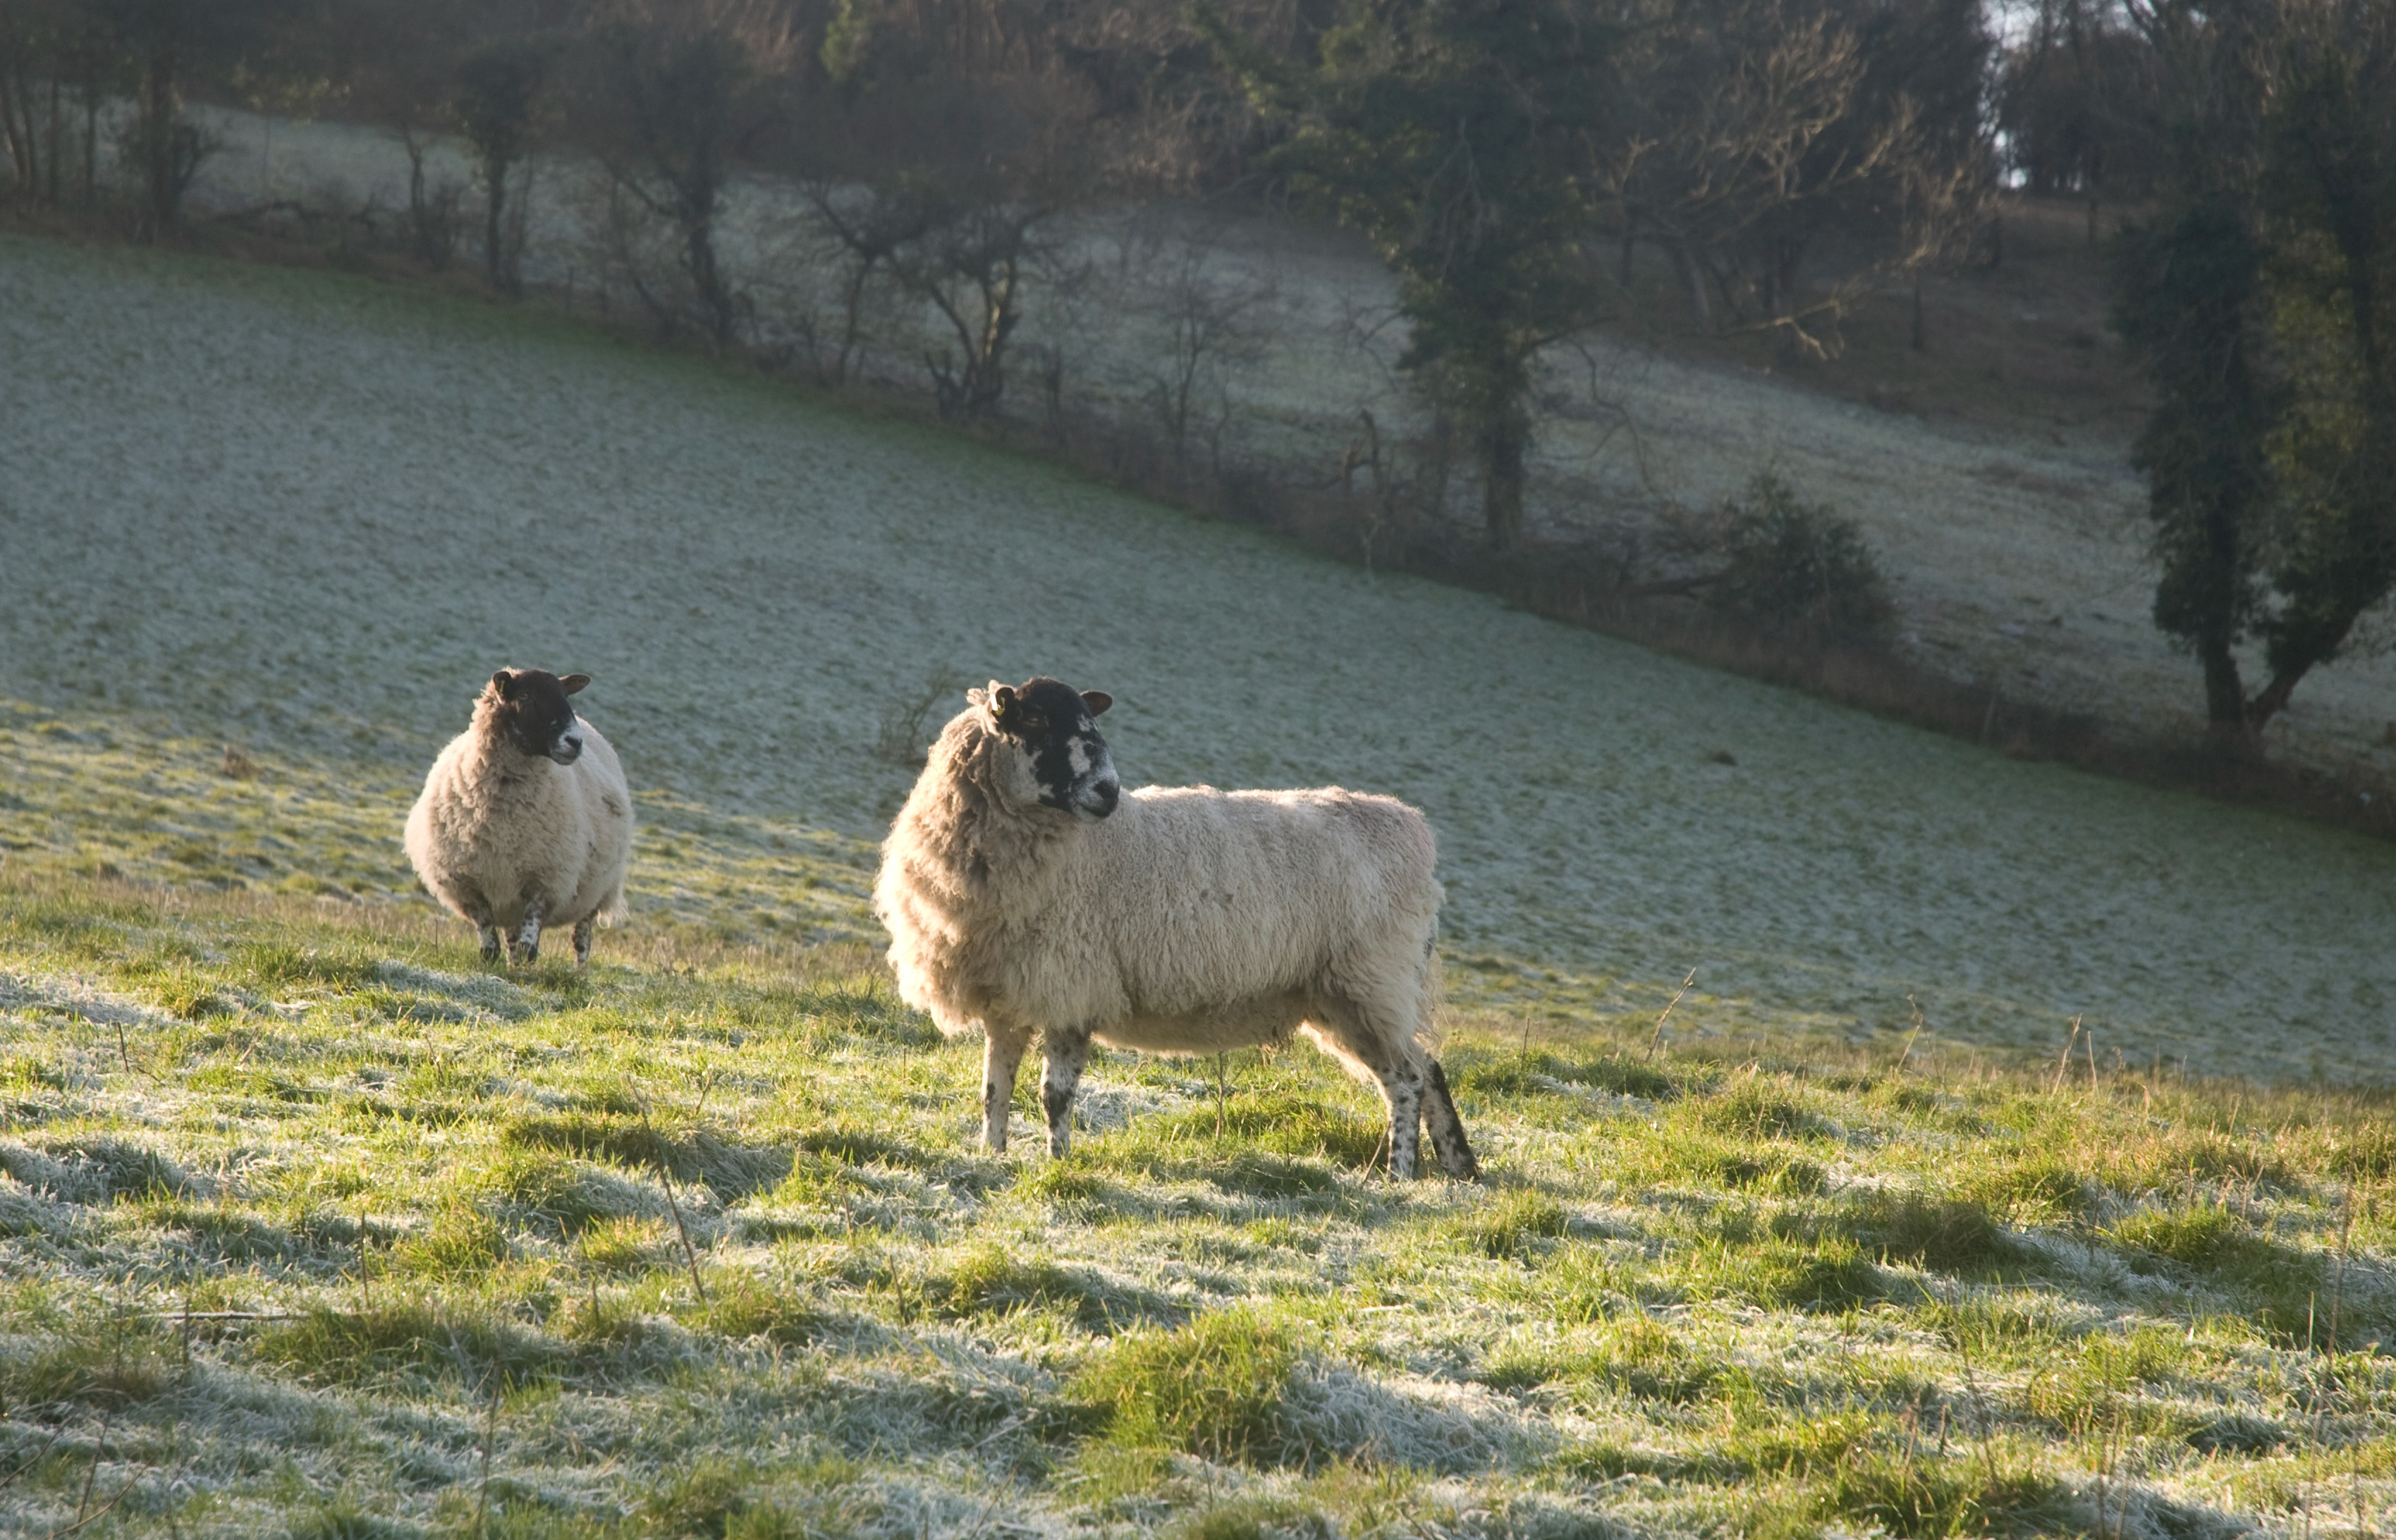standing: (868, 670, 1491, 1189), (407, 662, 637, 967)
